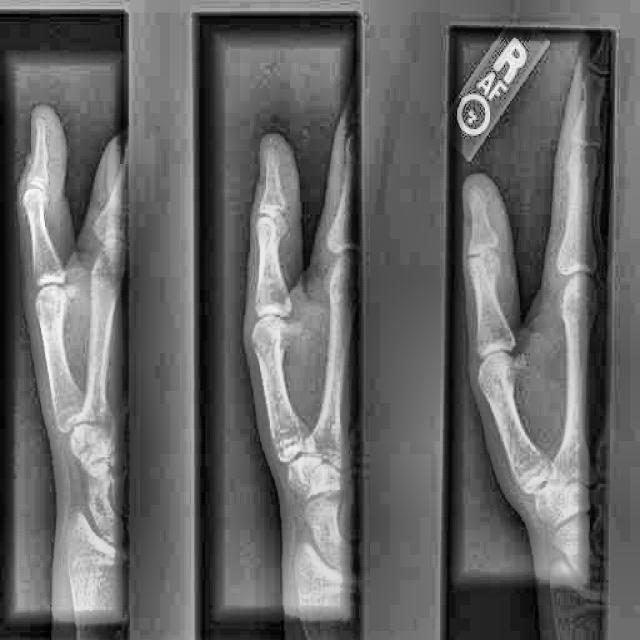fingers positive: (465, 199, 496, 237)
